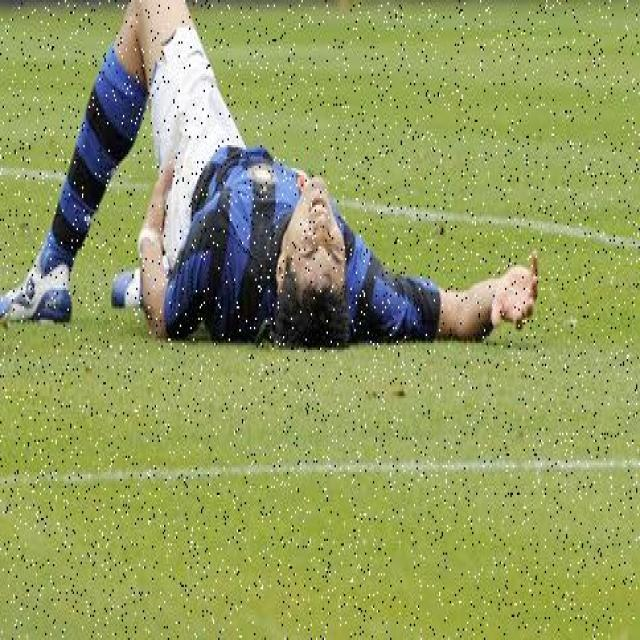fall: (23, 0, 535, 345)
